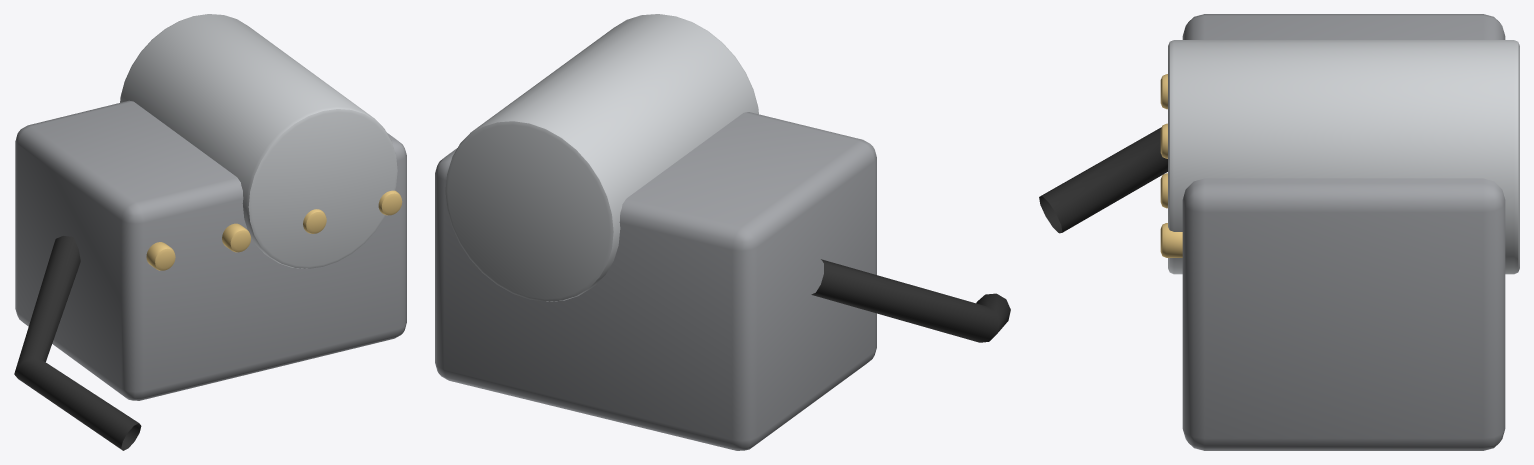
File: machine.glb
3 views of the same model, side by side, from view 1: azimuth 30°, elevation 25°; view 2: azimuth 150°, elevation 25°; view 3: azimuth 270°, elevation 25° (orthographic). The views are drawn at different scales.
Parts seen in each view (by area): view 1: block, drum, hose, bolt0, bolt1, bolt3, bolt2; view 2: block, drum, hose; view 3: block, drum, hose, bolt3.
Boxes of the visible parts, x1=… form: block: x1=15, y1=100, x2=406, y2=400; drum: x1=120, y1=14, x2=397, y2=268; hose: x1=14, y1=236, x2=141, y2=450; bolt0: x1=146, y1=242, x2=175, y2=270; bolt1: x1=222, y1=223, x2=250, y2=252; bolt3: x1=378, y1=190, x2=402, y2=215; bolt2: x1=303, y1=209, x2=326, y2=233; block: x1=435, y1=112, x2=876, y2=450; drum: x1=445, y1=14, x2=758, y2=301; hose: x1=811, y1=259, x2=1010, y2=342; block: x1=1182, y1=14, x2=1505, y2=450; drum: x1=1168, y1=40, x2=1519, y2=274; hose: x1=1039, y1=127, x2=1167, y2=233; bolt3: x1=1160, y1=223, x2=1182, y2=257.
Size of the model in its own units: 0.4142 by 0.26 by 0.328.
